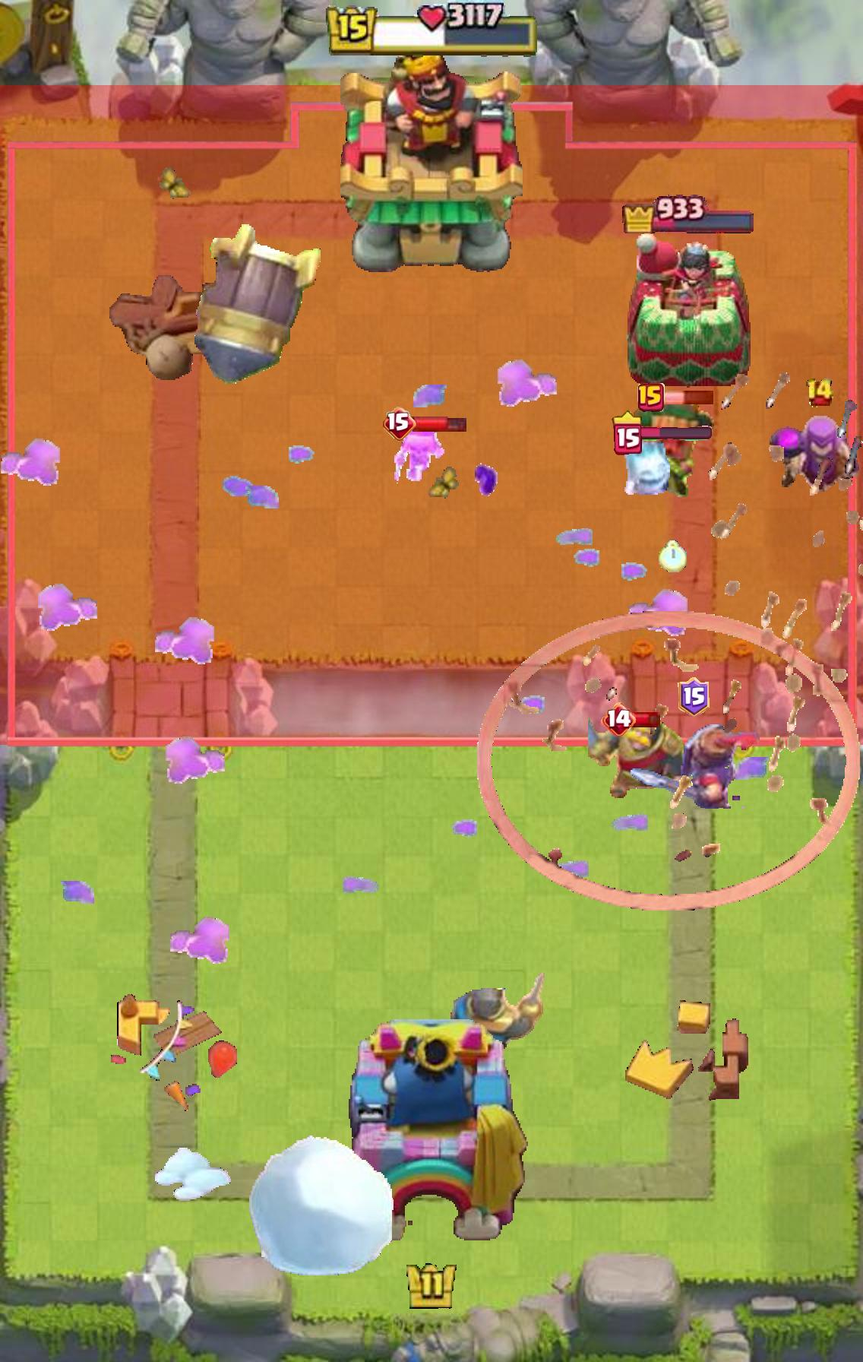bar: (638, 426, 711, 441), (413, 414, 467, 434), (661, 390, 714, 405), (632, 711, 661, 728)
bar-level: (612, 411, 642, 456), (678, 678, 710, 718), (383, 407, 417, 442), (601, 702, 636, 736), (805, 378, 834, 408), (637, 383, 665, 412)
